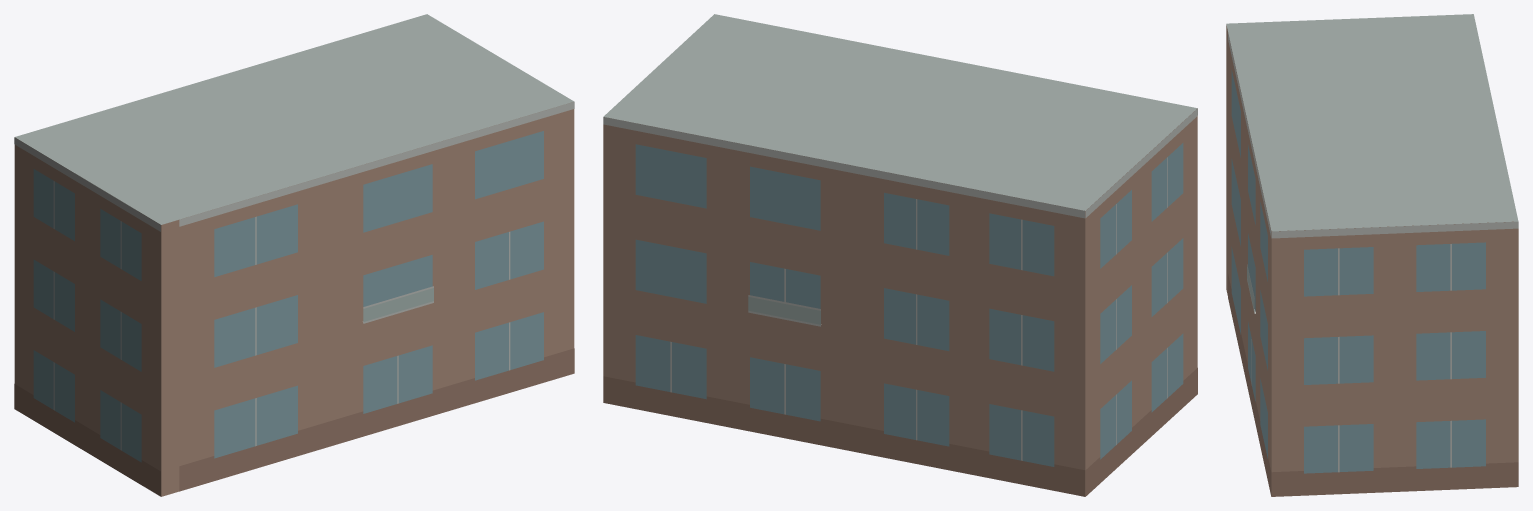
File: survey-upis-32569408.glb
3 views of the same model, side by side, from view 1: azimuth 30°, elevation 25°; view 2: azimuth 150°, elevation 25°; view 3: azimuth 270°, elevation 25° (orthographic). The views are drawn at different scales.
Visible parts, largest first — view 1: survey-upis-32569408.tmp; view 2: survey-upis-32569408.tmp; view 3: survey-upis-32569408.tmp.
Boxes of the visible parts, box(x1,y1,x2,y2) form: survey-upis-32569408.tmp: box(14, 14, 574, 496); survey-upis-32569408.tmp: box(603, 14, 1197, 496); survey-upis-32569408.tmp: box(1226, 14, 1518, 496).
Size of the model in its own units: 16.08 by 9.15 by 9.14.
